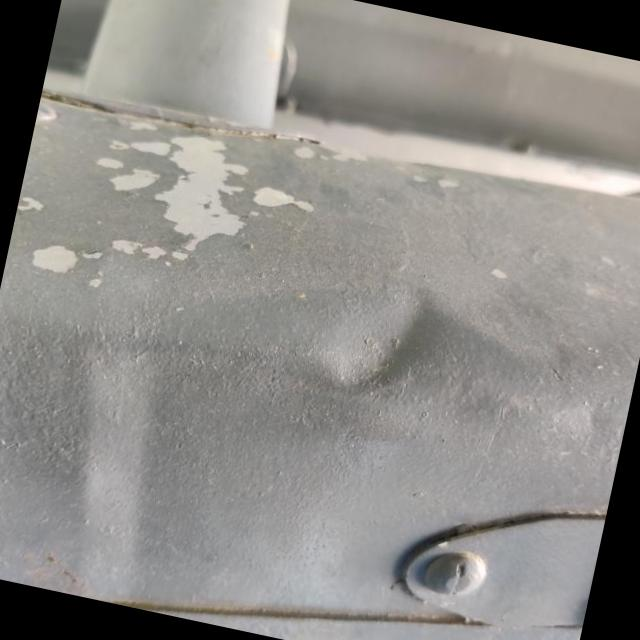Dent: (287, 278, 441, 400)
Paint-off: (94, 122, 293, 248), (16, 230, 106, 294)
